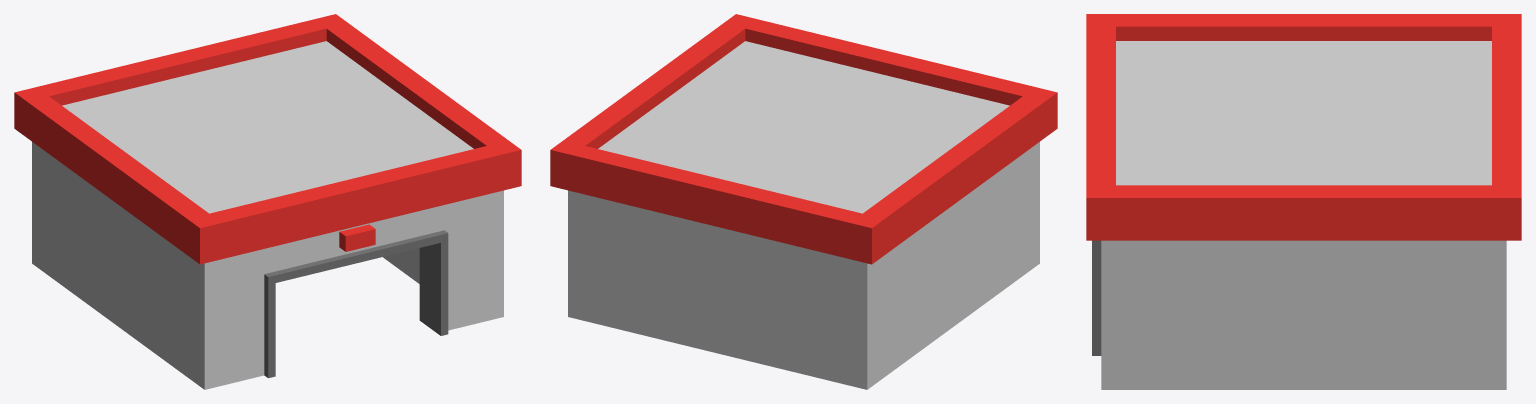
The model's file is house.fbx.
3 views of the same model, side by side, from view 1: azimuth 30°, elevation 25°; view 2: azimuth 150°, elevation 25°; view 3: azimuth 270°, elevation 25° (orthographic). The views are drawn at different scales.
Parts seen in each view (by area): view 1: Cube; view 2: Cube; view 3: Cube.
Part boxes in pixels (x1,y1,x2,y2): Cube: (14,14,521,389); Cube: (550,14,1057,389); Cube: (1086,14,1521,389).
Bounding box in the file's own units: 215 × 108 × 215.
